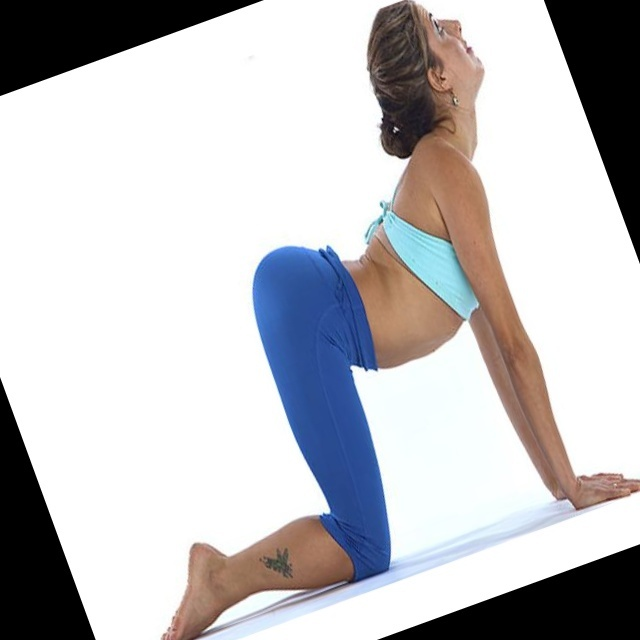Cow_Pose: (160, 4, 636, 637)
